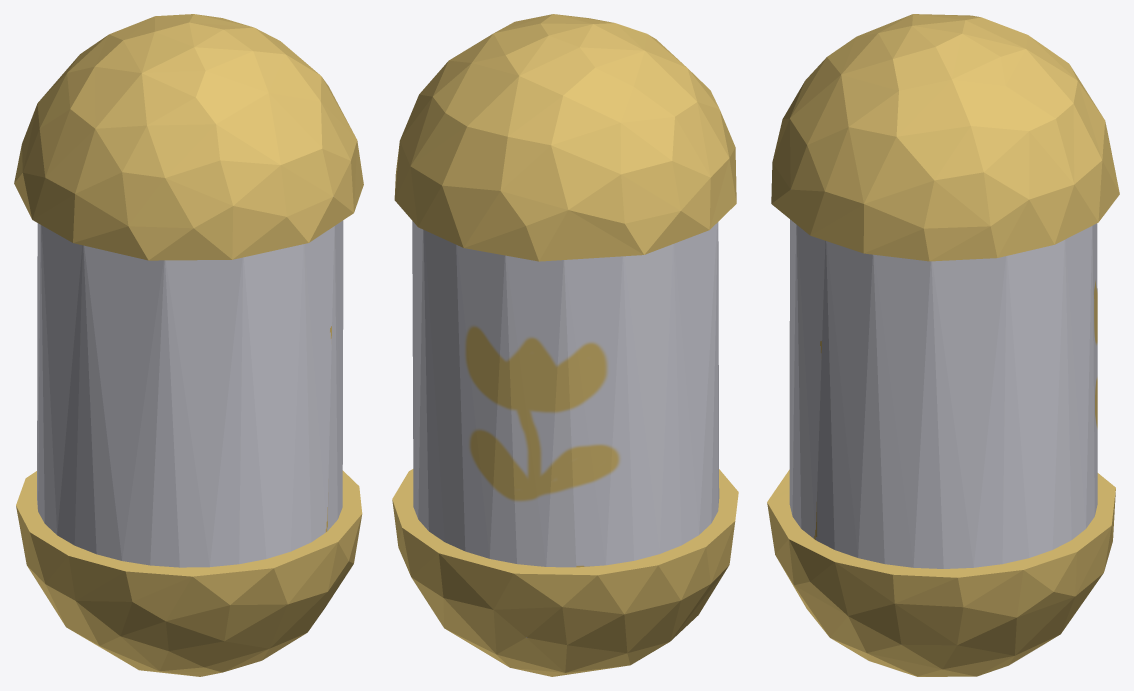
File: yellow_capsule.glb
3 views of the same model, side by side, from view 1: azimuth 30°, elevation 25°; view 2: azimuth 150°, elevation 25°; view 3: azimuth 270°, elevation 25° (orthographic).
Visible parts, largest first — view 1: Sphere.001; view 2: Sphere.001; view 3: Sphere.001.
Part boxes in pixels (x1,y1,x2,y2): Sphere.001: (14, 14, 363, 676); Sphere.001: (392, 14, 738, 676); Sphere.001: (767, 14, 1119, 676).
Bounding box in the file's own units: 0.7508 × 1.5 × 0.7581.
Materials: 1 (1 with a texture image).
